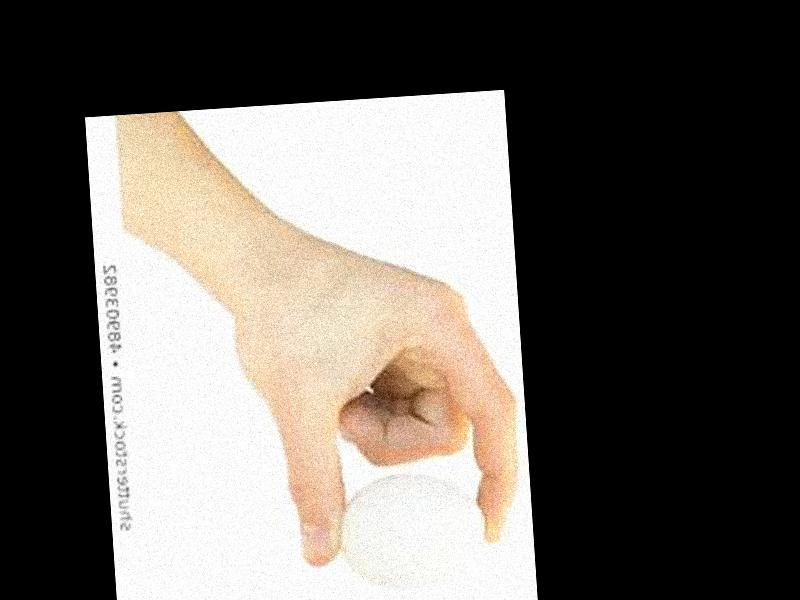Eggs: (334, 468, 487, 589)
